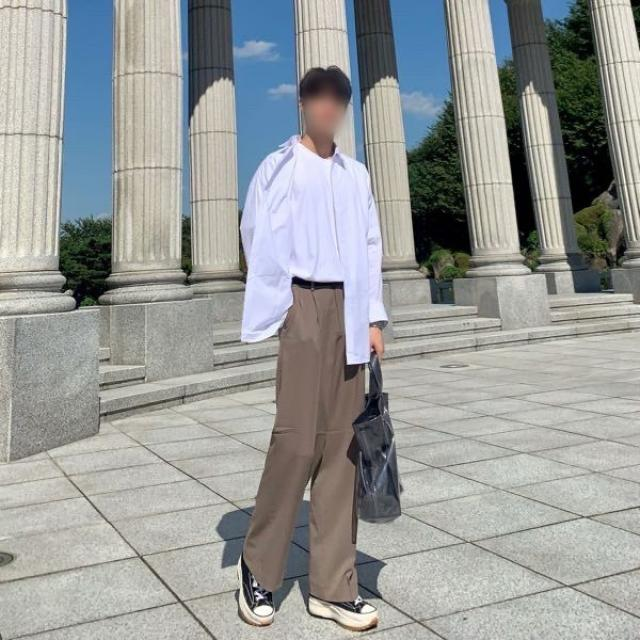shirt: (239, 137, 388, 367)
slacks: (244, 272, 372, 598)
